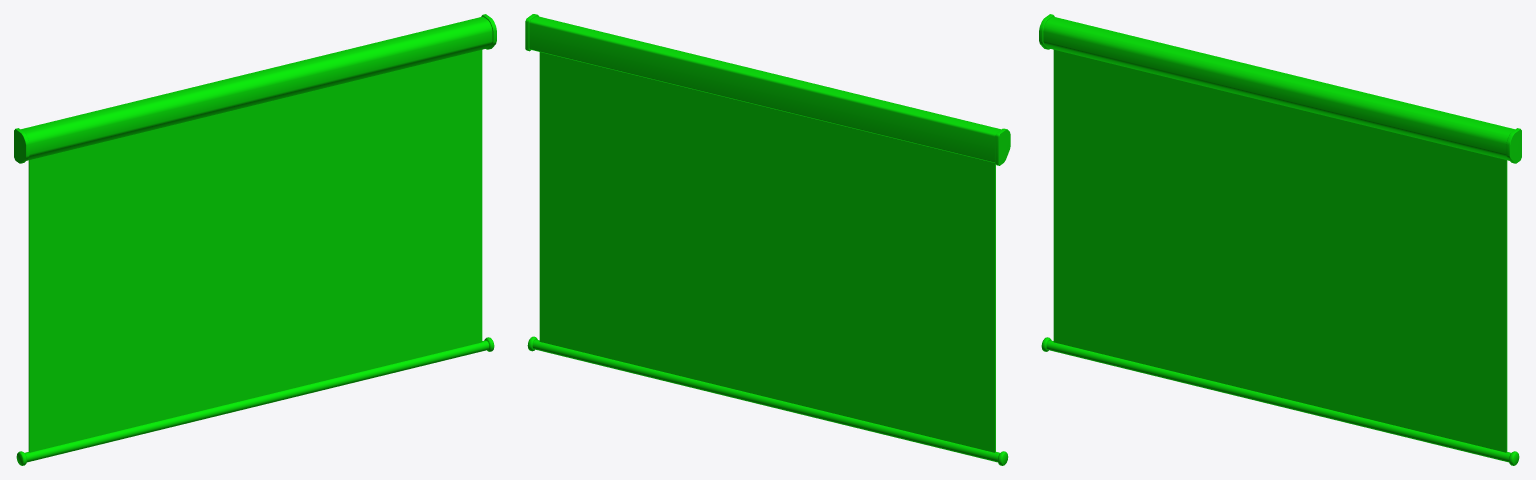
File: classroomSlideboard.fbx
3 renders of one model, left to right at view 1: azimuth 30°, elevation 25°; view 2: azimuth 150°, elevation 25°; view 3: azimuth 330°, elevation 25°, orthographic.
Parts seen in each view (by area): view 1: classroomSlideBoard; view 2: classroomSlideBoard; view 3: classroomSlideBoard.
Part boxes in pixels (x1=…): classroomSlideBoard: x1=14, y1=14, x2=496, y2=465; classroomSlideBoard: x1=525, y1=14, x2=1010, y2=465; classroomSlideBoard: x1=1039, y1=14, x2=1521, y2=465.
Size of the model in its own units: 250 by 169 by 11.2.
